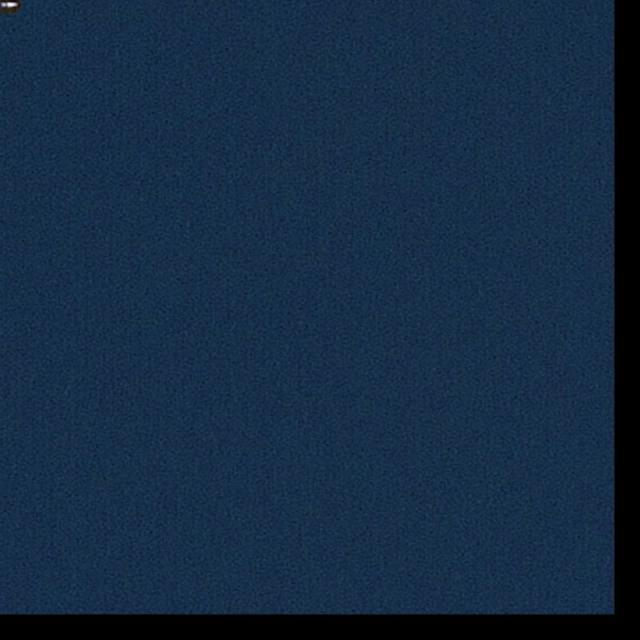ship: (0, 2, 18, 10)
